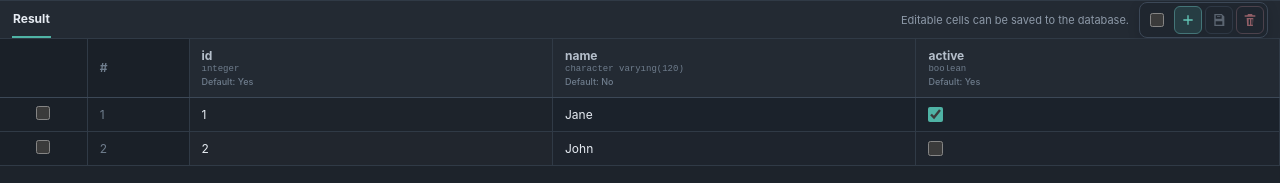
Scenario: ResultPanel › renders icon actions and supports selecting multiple rows
Expected: the button named "Save changes" is shown, [1205,6,1233,34]
Expected: the button named "Delete selected rows" is shown, [1236,6,1264,34]
Click the checkbox named "Select row 1" at (43, 112), box [36,106,50,120]
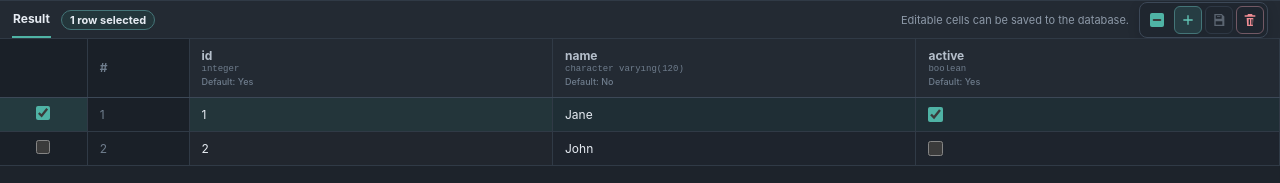
Click the checkbox named "Select row 2" at (43, 146), box [36,140,50,154]
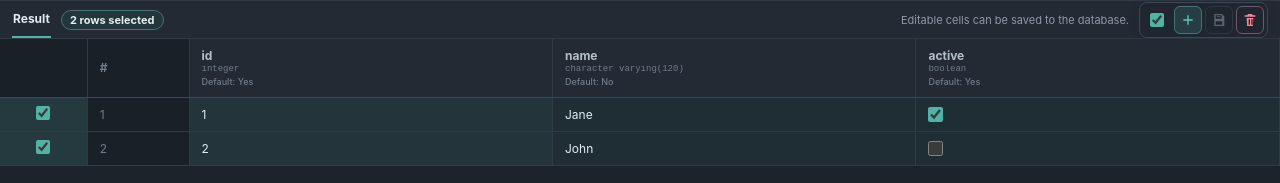
Expected: the button named "Delete selected rows" is enabled, [1236,6,1264,34]
Expected: the text "2 rows selected" is shown, [61,10,164,30]
